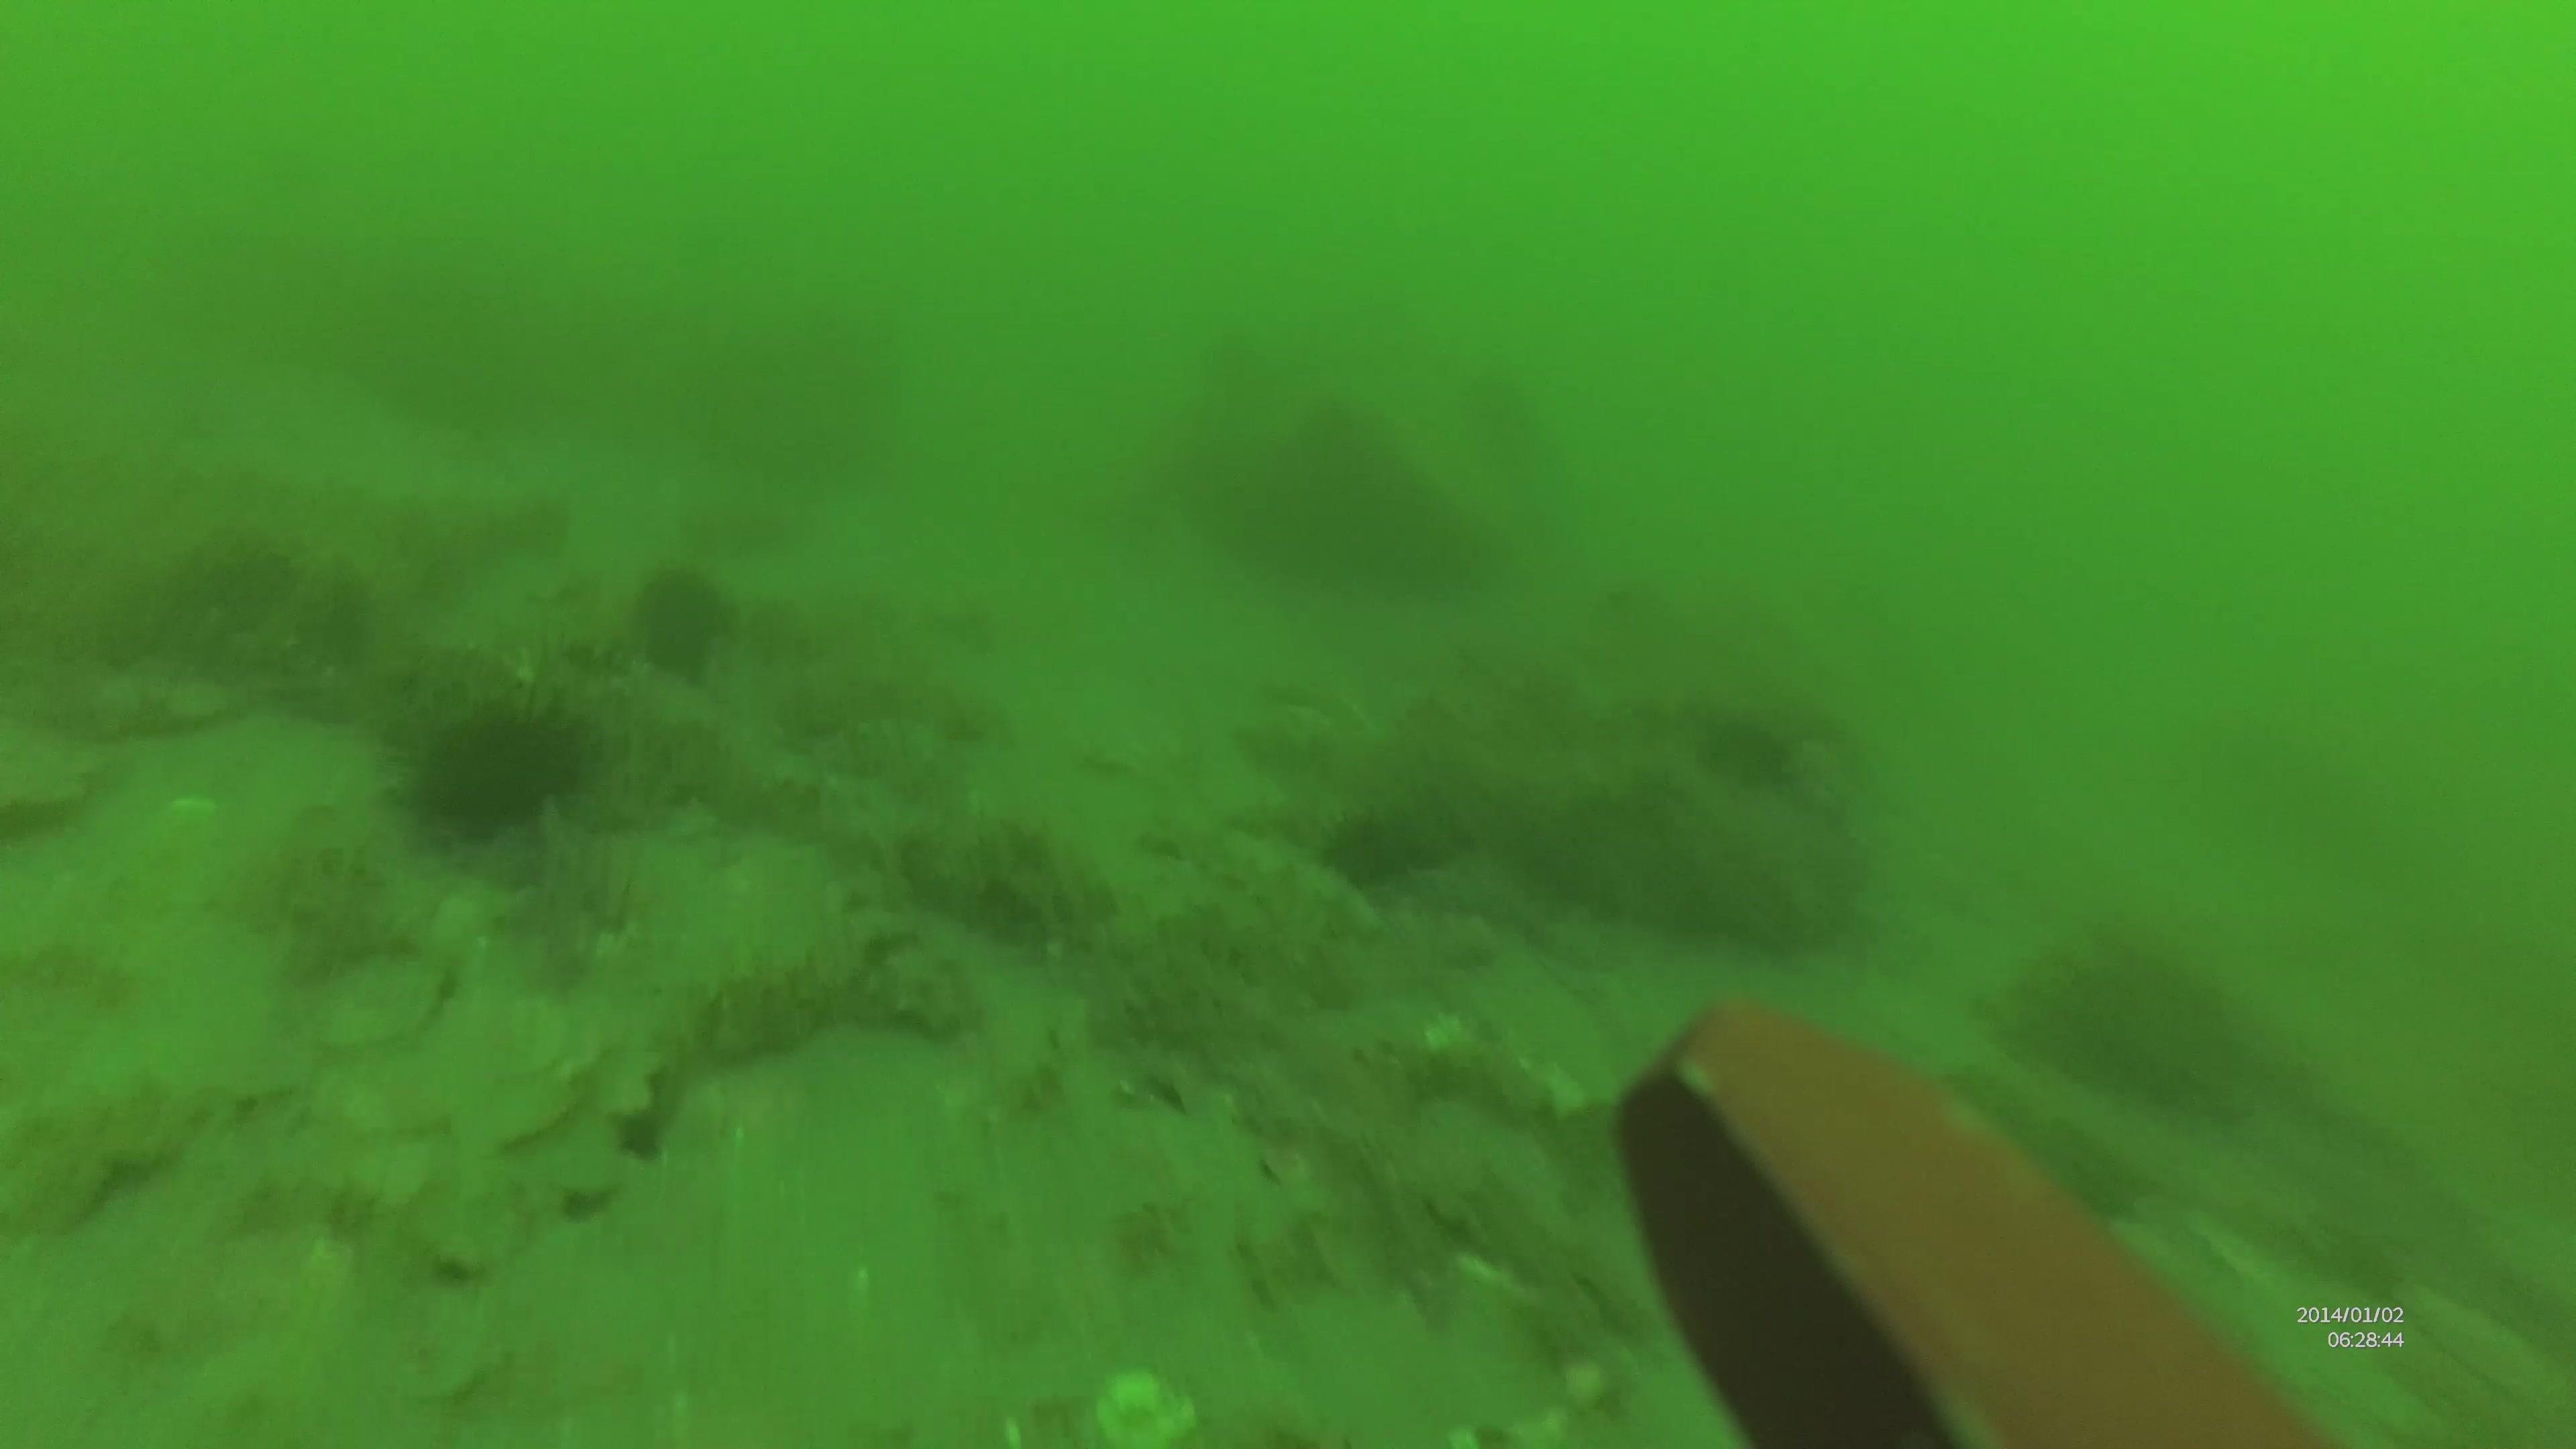echinus: (380, 686, 619, 863)
